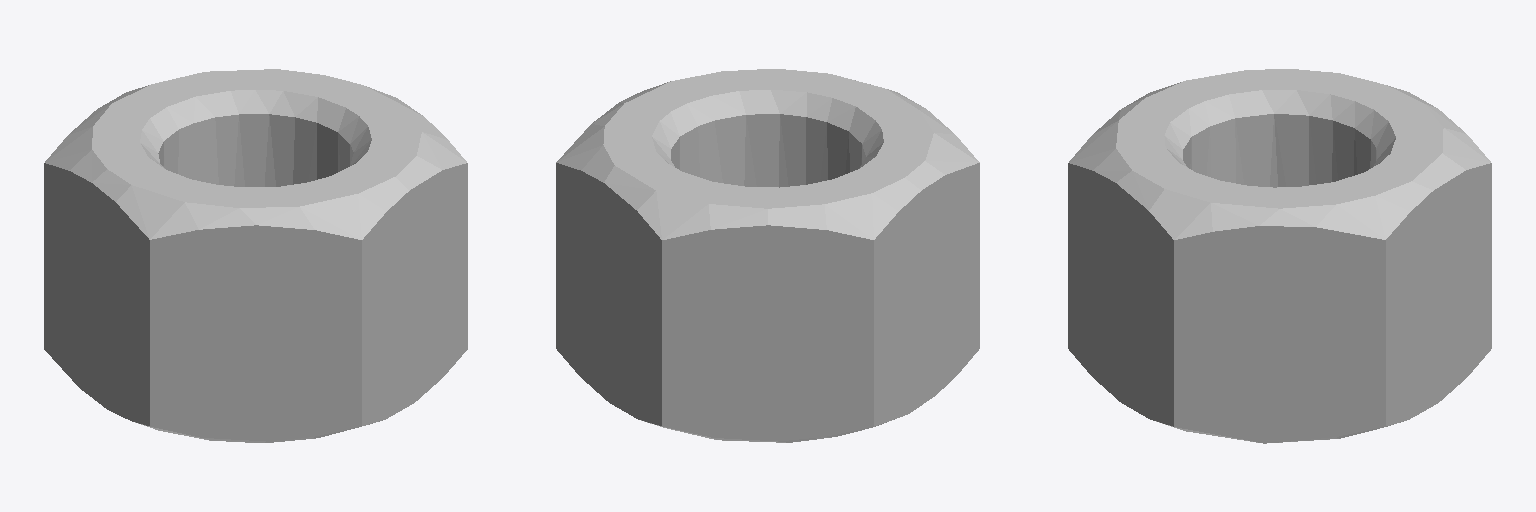
File: m12 nuts front cover.obj
3 views of the same model, side by side, from view 1: azimuth 30°, elevation 25°; view 2: azimuth 150°, elevation 25°; view 3: azimuth 270°, elevation 25° (orthographic).
Parts seen in each view (by area): view 1: imagetostl_mesh0; view 2: imagetostl_mesh0; view 3: imagetostl_mesh0.
Boxes of the visible parts, x1=… form: imagetostl_mesh0: x1=44, y1=69, x2=467, y2=442; imagetostl_mesh0: x1=556, y1=69, x2=979, y2=442; imagetostl_mesh0: x1=1068, y1=69, x2=1491, y2=443.
Size of the model in its own units: 19.01 by 13.42 by 21.94.